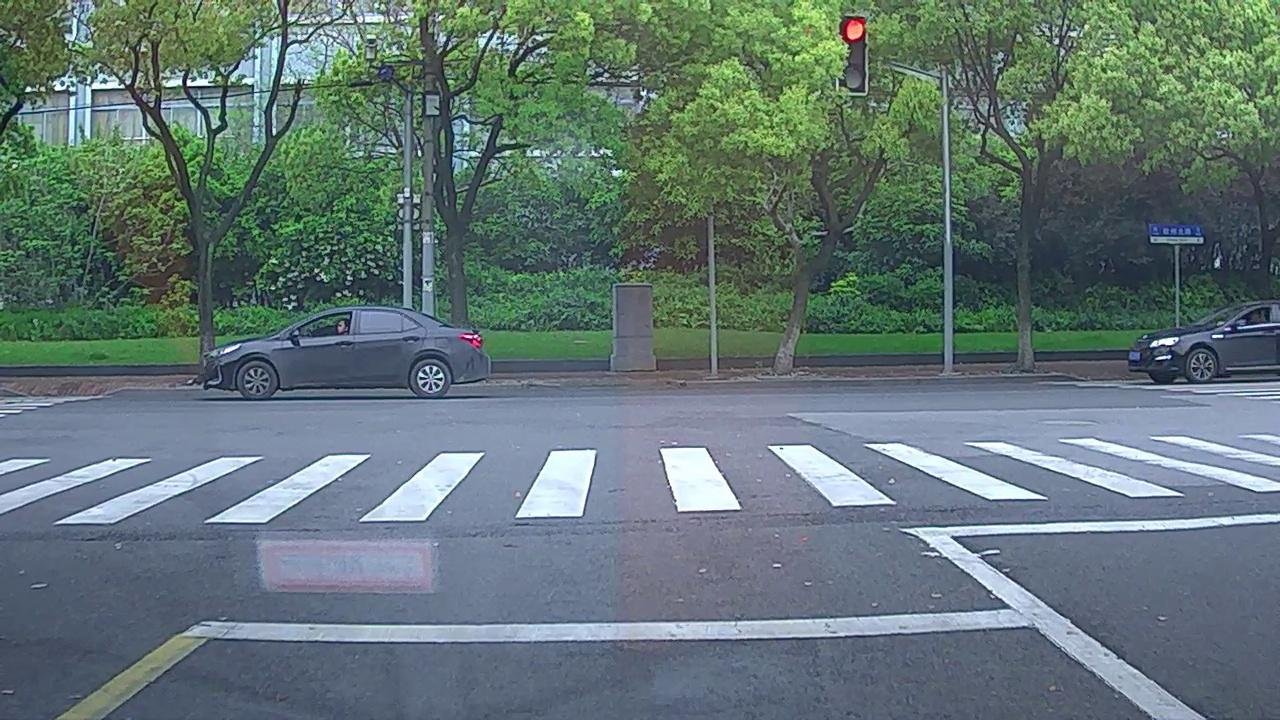traffic_light: (842, 18, 868, 93)
